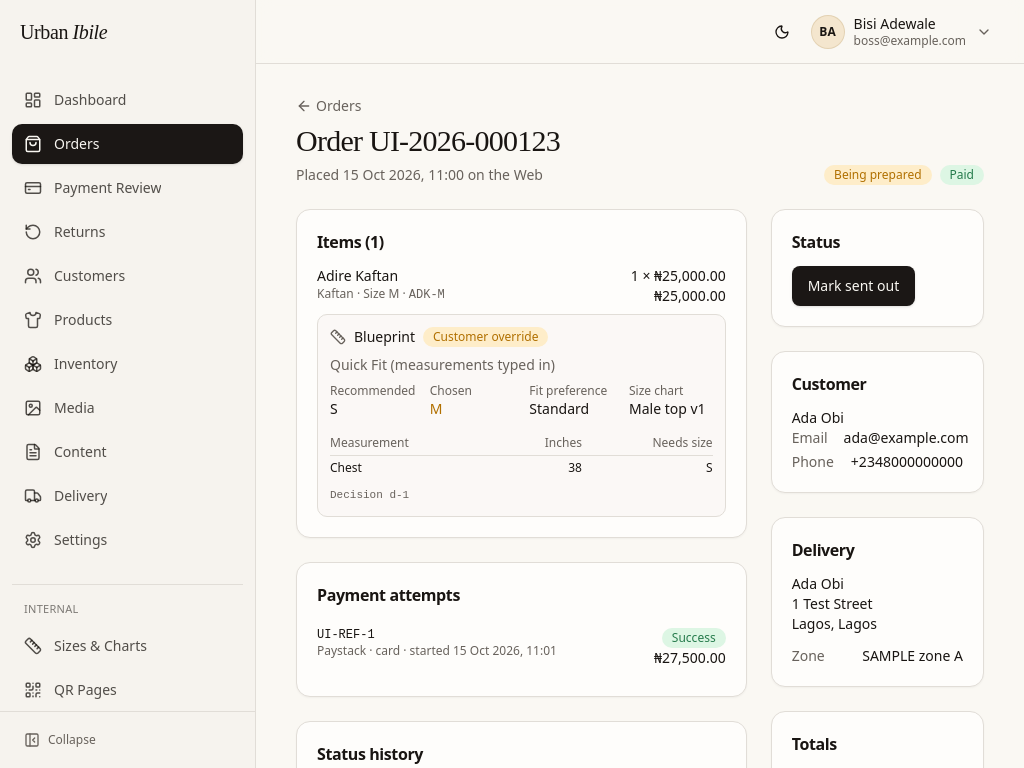
Test: order detail › explains a conflict when someone else changed the order
Click the button "Mark sent out" at (854, 286), box 792,266 -> 915,306
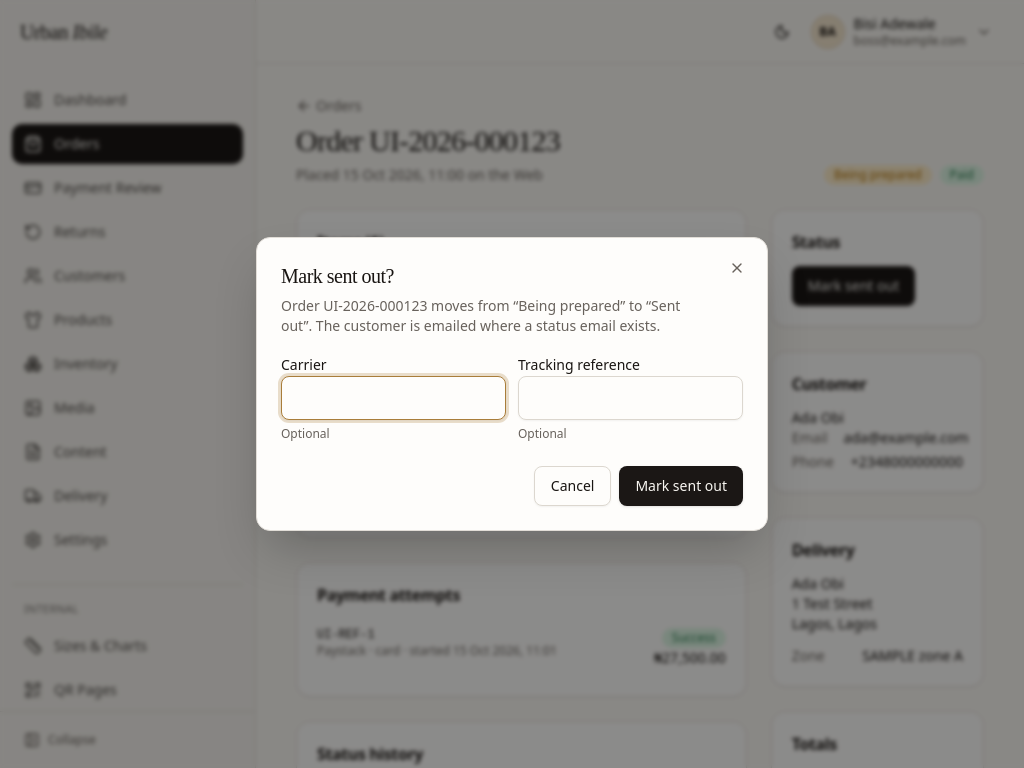
Click the button "Mark sent out" at (681, 486), box 619,466 -> 743,506
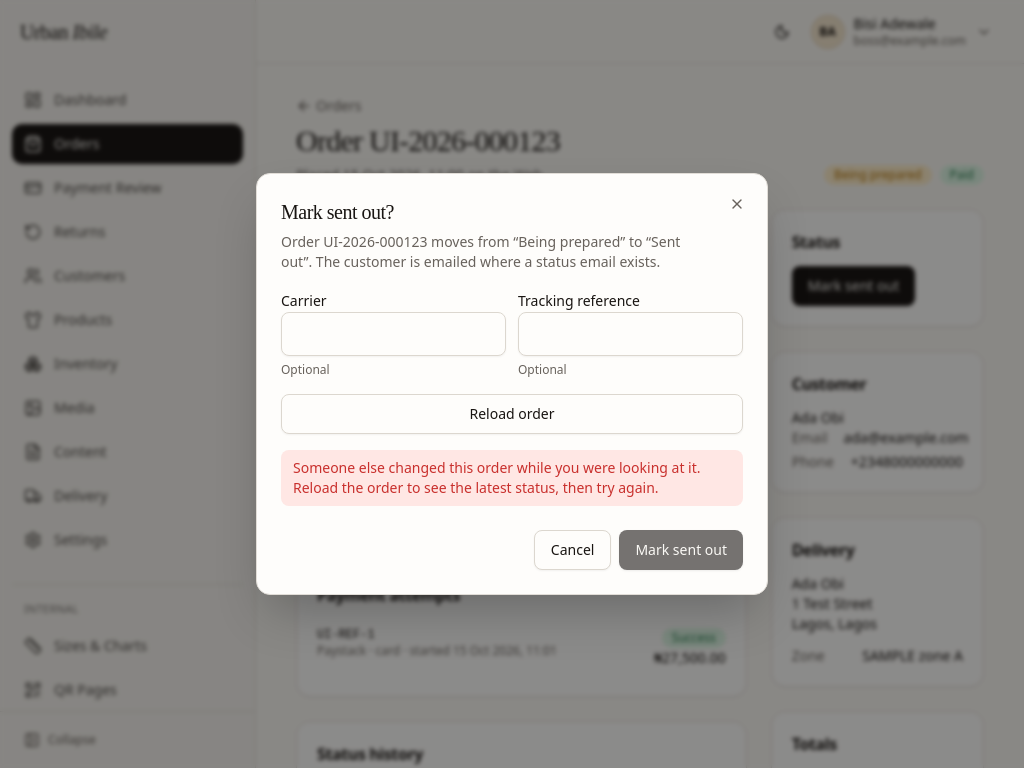
Result: the message shows "Someone else changed this order" at 293,458 -> 700,497
Result: the button "Reload order" is shown at 281,394 -> 743,434
